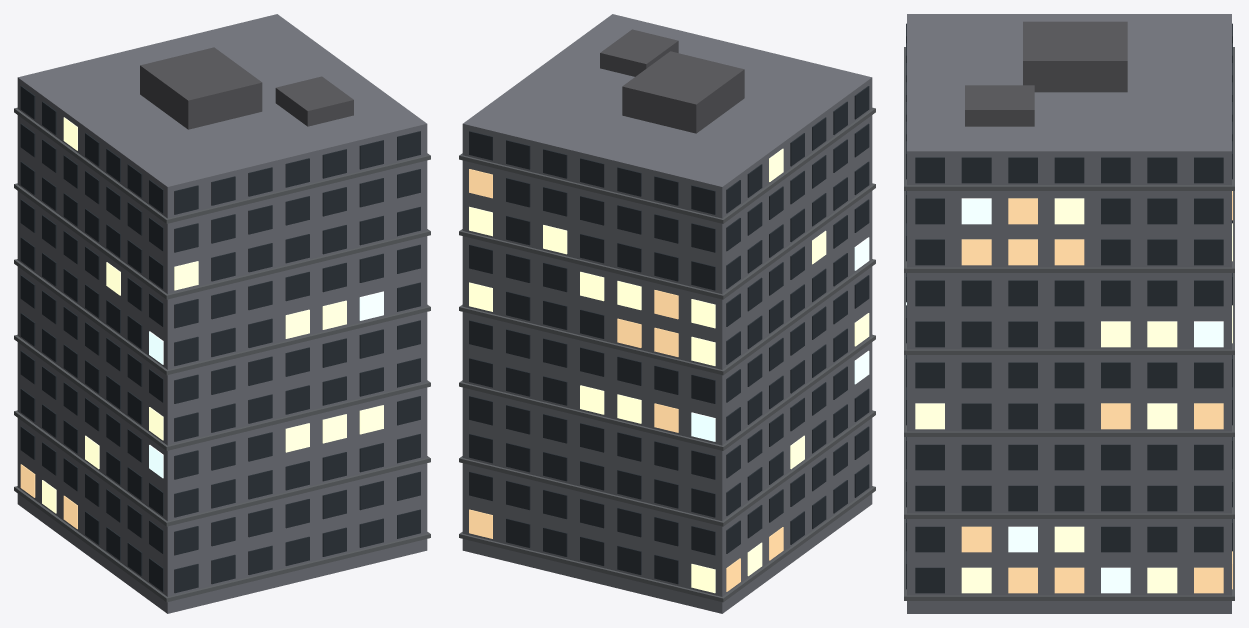
File: block.glb
3 renders of one model, left to right at view 1: azimuth 30°, elevation 25°; view 2: azimuth 150°, elevation 25°; view 3: azimuth 270°, elevation 25°, orthographic. The views are drawn at different scales.
Parts seen in each view (by area): view 1: Block; view 2: Block; view 3: Block.
Boxes of the visible parts, x1,y1,x2,y2 form: Block: (14, 14, 430, 613); Block: (459, 14, 875, 613); Block: (904, 14, 1234, 613).
Size of the model in its own units: 28.5 by 47 by 28.5.
